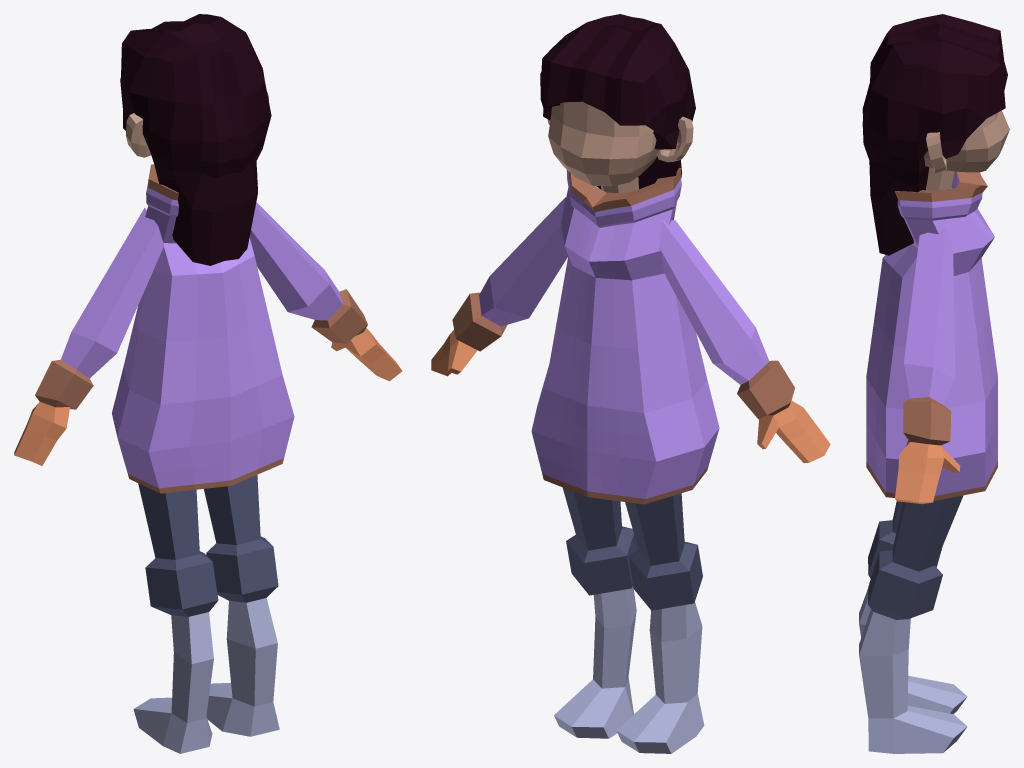
Rendered from npc_mother.glb.
The picture shows the model from 3 angles, left to right: view 1: azimuth 30°, elevation 25°; view 2: azimuth 150°, elevation 25°; view 3: azimuth 270°, elevation 25°; orthographic projection. The views are drawn at different scales.
Parts seen in each view (by area): view 1: Cube, Cylindre, Cube.004, Cylindre.001, Cube.002; view 2: Cube, Cylindre, Cylindre.001, Cube.004, Cube.001, Cube.002; view 3: Cube, Cube.004, Cylindre, Cylindre.001, Cube.001, Cube.002, Cylindre.002.
Part boxes in pixels (x1,y1,x2,y2): Cube: [112, 164, 294, 493]; Cylindre: [133, 475, 279, 753]; Cube.004: [120, 14, 271, 265]; Cylindre.001: [14, 202, 402, 465]; Cube.002: [126, 92, 268, 157]; Cube: [531, 167, 719, 504]; Cylindre: [554, 487, 704, 753]; Cylindre.001: [431, 197, 830, 463]; Cube.004: [540, 14, 695, 219]; Cube.001: [548, 101, 659, 186]; Cube.002: [547, 116, 693, 162]; Cube: [866, 171, 997, 500]; Cube.004: [862, 14, 1007, 255]; Cylindre: [859, 495, 967, 753]; Cylindre.001: [895, 226, 960, 504]; Cube.001: [924, 110, 1009, 172]; Cube.002: [926, 132, 946, 173]; Cylindre.002: [926, 167, 954, 190].
Bounding box in the file's own units: 2.55 × 4.41 × 0.8615.
